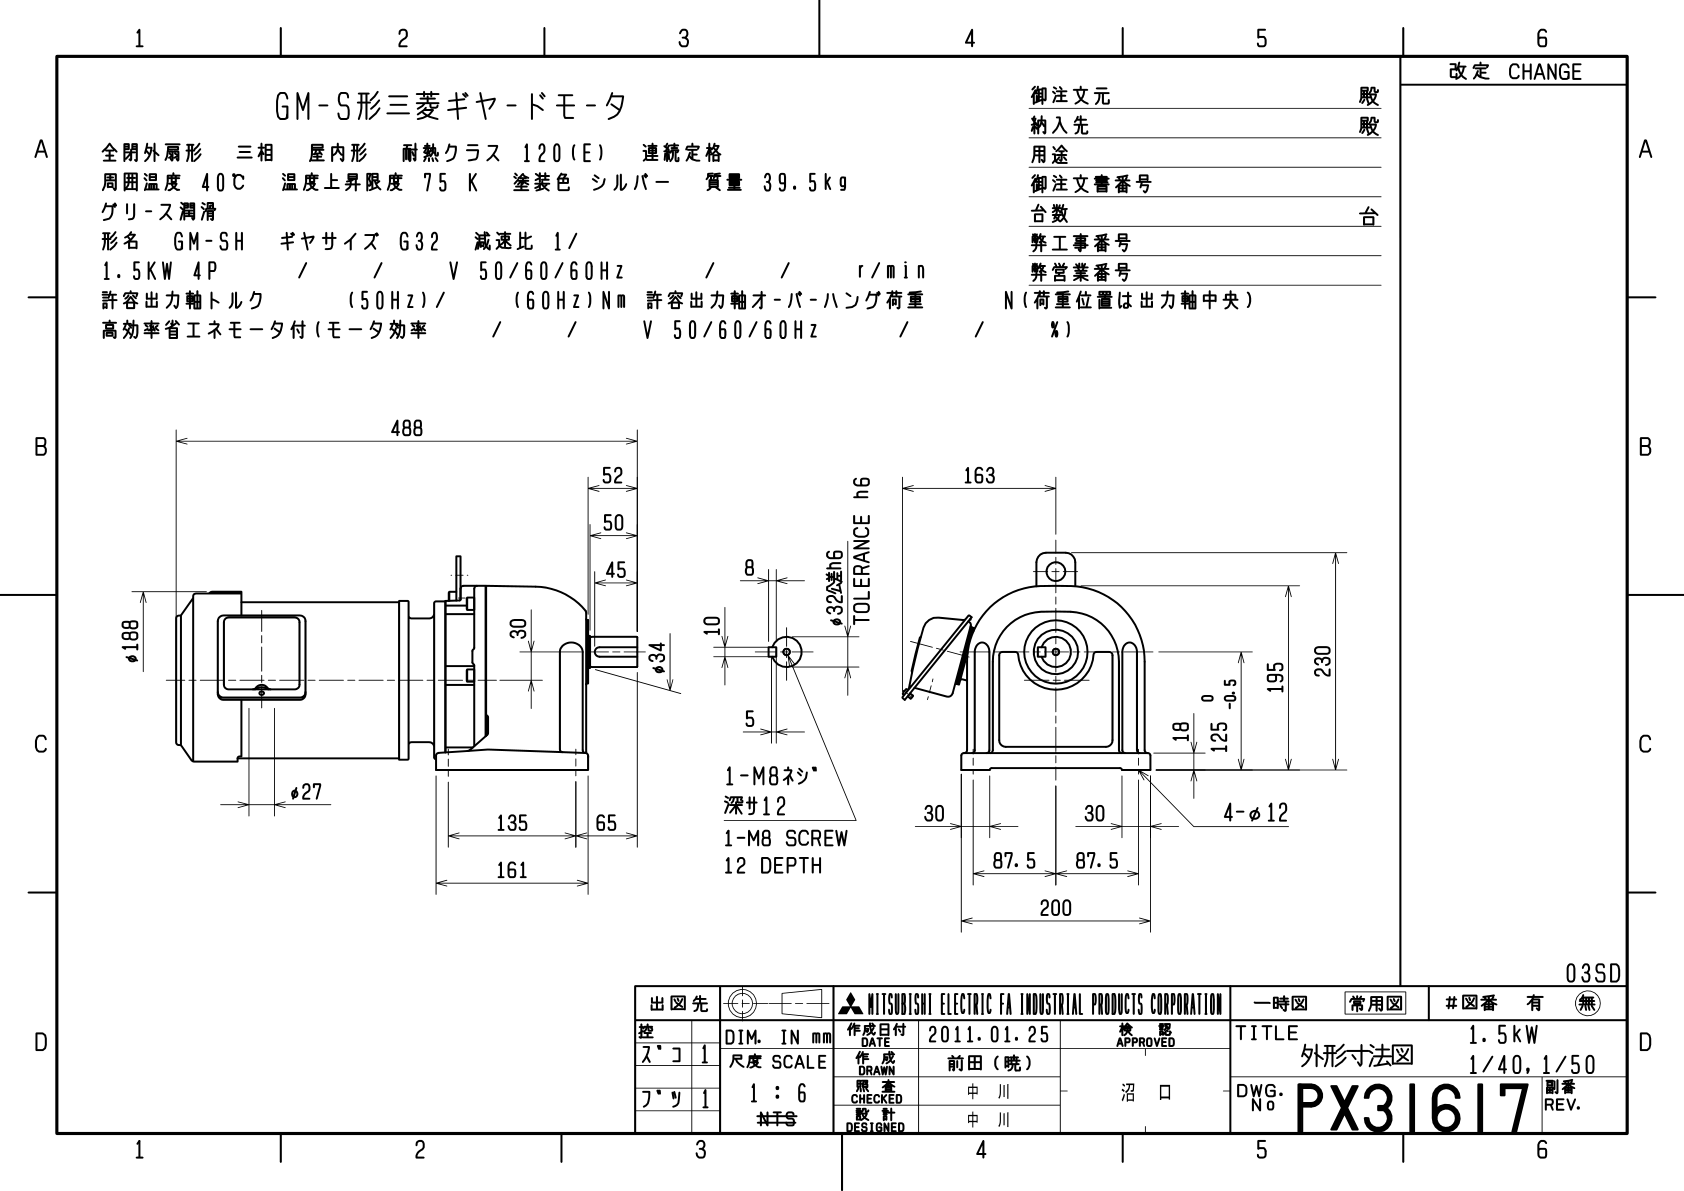GM_S_高効率屋内＿三相_脚: (3, 8, 1684, 1191)
